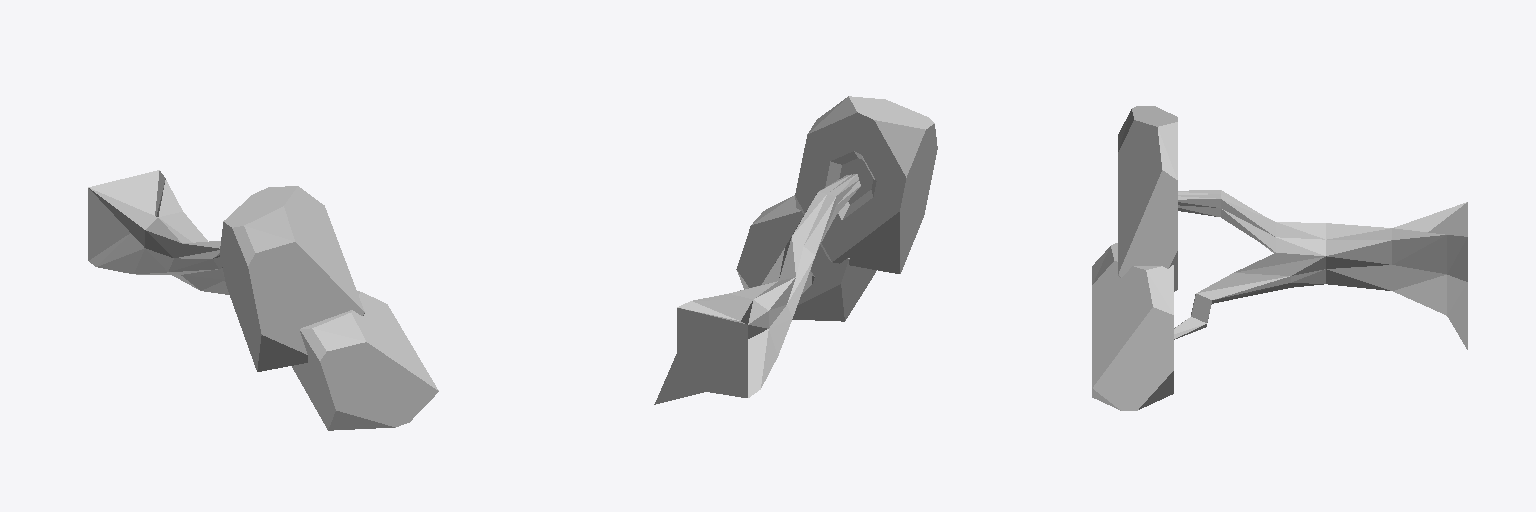
Rendered from three_3.obj.
The picture shows the model from 3 angles: view 1: azimuth 30°, elevation 25°; view 2: azimuth 150°, elevation 25°; view 3: azimuth 270°, elevation 25°; orthographic projection.
Parts seen in each view (by area): view 1: Cube.473_Cube.474; view 2: Cube.473_Cube.474; view 3: Cube.473_Cube.474.
Part boxes in pixels (bbox=[...]): Cube.473_Cube.474: bbox=[88, 170, 438, 430]; Cube.473_Cube.474: bbox=[654, 96, 937, 404]; Cube.473_Cube.474: bbox=[1092, 106, 1467, 410].
Bounding box in the file's own units: 7.39 × 8.86 × 12.61.